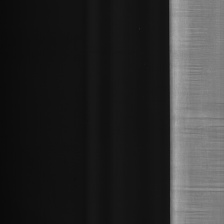waist_folding: (173, 17, 222, 214)
